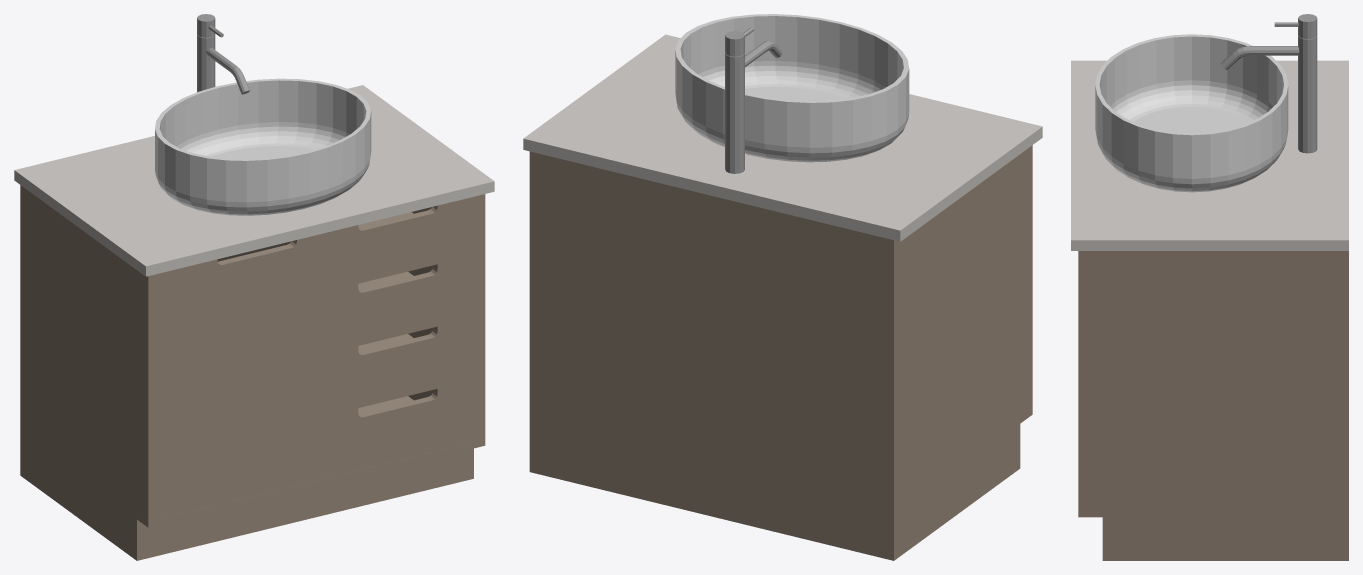
File: vanity-vessel.glb
3 renders of one model, left to right at view 1: azimuth 30°, elevation 25°; view 2: azimuth 150°, elevation 25°; view 3: azimuth 270°, elevation 25°, orthographic. The views are drawn at different scales.
Visible parts, largest first — view 1: skp; view 2: skp; view 3: skp.
Boxes of the visible parts, box(x1,y1,x2,y2) form: skp: box(14, 14, 494, 560); skp: box(523, 14, 1042, 560); skp: box(1071, 14, 1348, 560).
Size of the model in its own units: 0.88 by 1.04 by 0.575.
